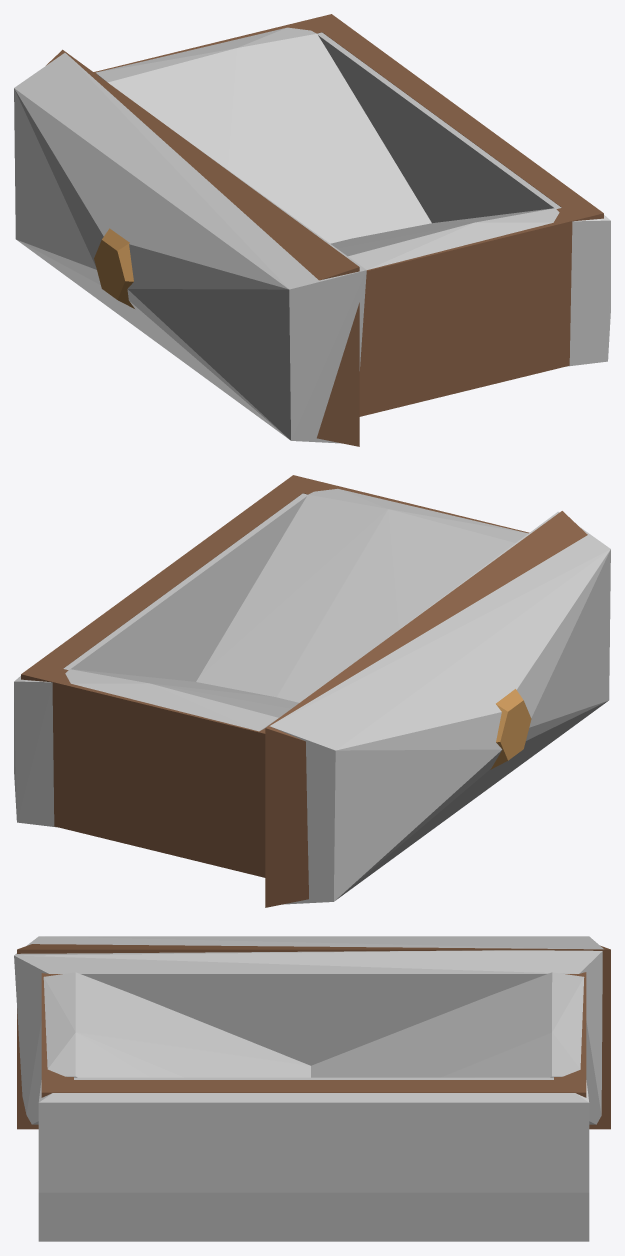
The model's file is SM_Prop_Cabinet_01_Drawer_l_02.fbx.
3 views of the same model, one above another, from view 1: azimuth 30°, elevation 25°; view 2: azimuth 150°, elevation 25°; view 3: azimuth 270°, elevation 25° (orthographic).
Visible parts, largest first — view 1: SM_Prop_Cabinet_01_Drawer_l_02_ConvexHulls, SM_Prop_Cabinet_01_Drawer_l_02; view 2: SM_Prop_Cabinet_01_Drawer_l_02_ConvexHulls, SM_Prop_Cabinet_01_Drawer_l_02; view 3: SM_Prop_Cabinet_01_Drawer_l_02_ConvexHulls, SM_Prop_Cabinet_01_Drawer_l_02.
Part boxes in pixels (<box>): SM_Prop_Cabinet_01_Drawer_l_02_ConvexHulls: <box>14,27,610,443</box>; SM_Prop_Cabinet_01_Drawer_l_02: <box>46,14,603,446</box>; SM_Prop_Cabinet_01_Drawer_l_02_ConvexHulls: <box>14,488,610,904</box>; SM_Prop_Cabinet_01_Drawer_l_02: <box>21,475,587,907</box>; SM_Prop_Cabinet_01_Drawer_l_02_ConvexHulls: <box>14,936,603,1241</box>; SM_Prop_Cabinet_01_Drawer_l_02: <box>17,944,610,1129</box>.
Size of the model in its own units: 24.64 by 35 by 11.64.
Materials: 2 (1 with a texture image).
